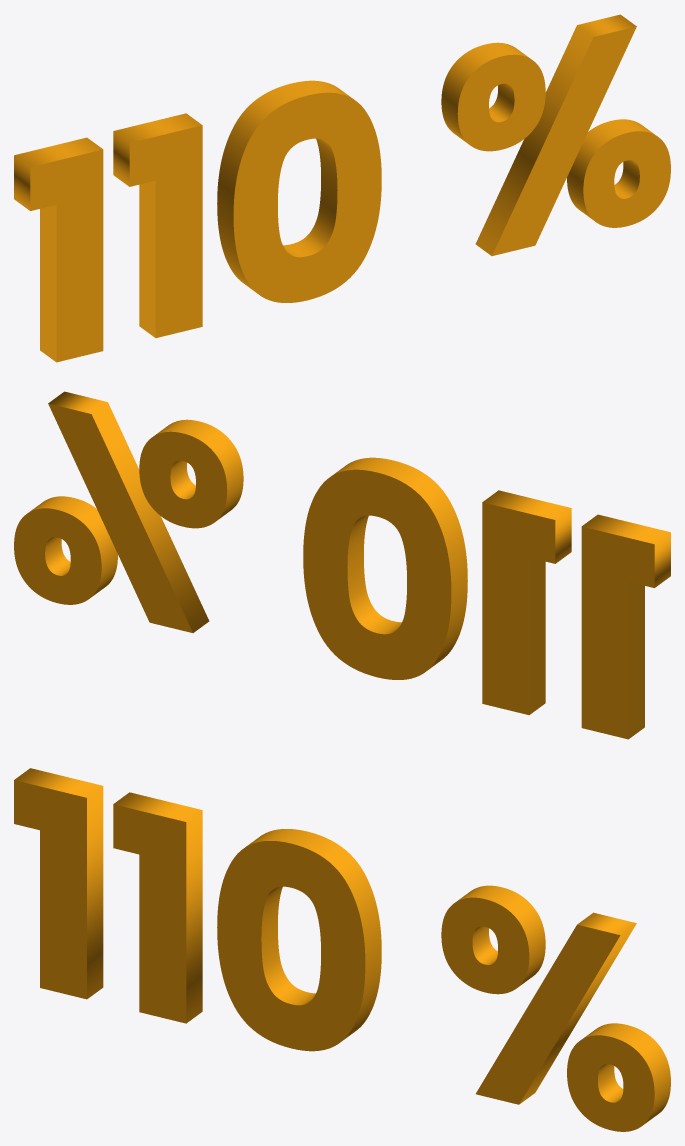
Rendered from Bina2yuzde.gltf.
3 renders of one model, top to bottom at view 1: azimuth 30°, elevation 25°; view 2: azimuth 150°, elevation 25°; view 3: azimuth 330°, elevation 25°, orthographic.
Visible parts, largest first — view 1: simsekyazi.004; view 2: simsekyazi.004; view 3: simsekyazi.004.
Boxes of the visible parts, box(x1,y1,x2,y2) form: simsekyazi.004: box(14, 14, 670, 362); simsekyazi.004: box(14, 391, 670, 739); simsekyazi.004: box(14, 768, 670, 1131).
Size of the model in its own units: 0.1028 by 0.032 by 0.00455.
